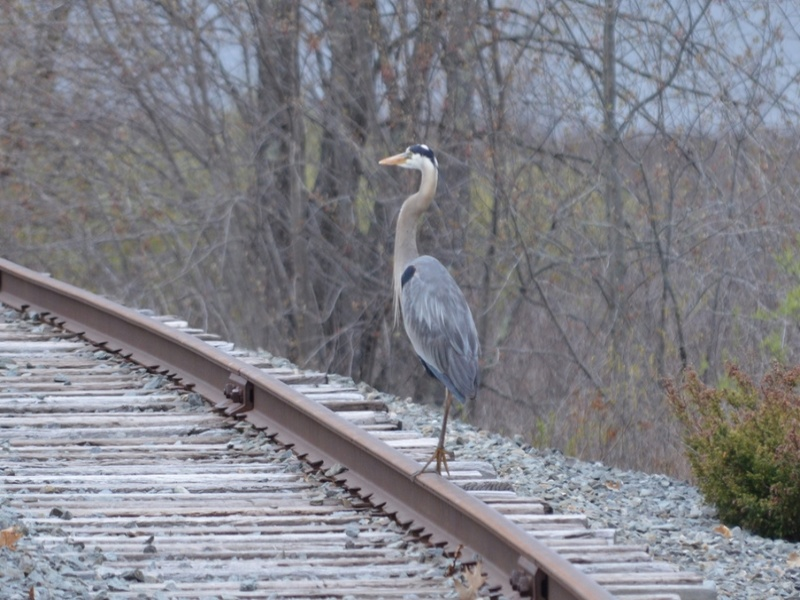heron: (378, 139, 486, 487)
